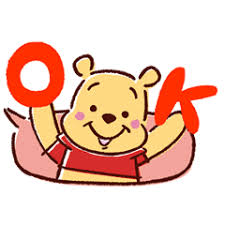Winnie: (63, 47, 155, 175)
